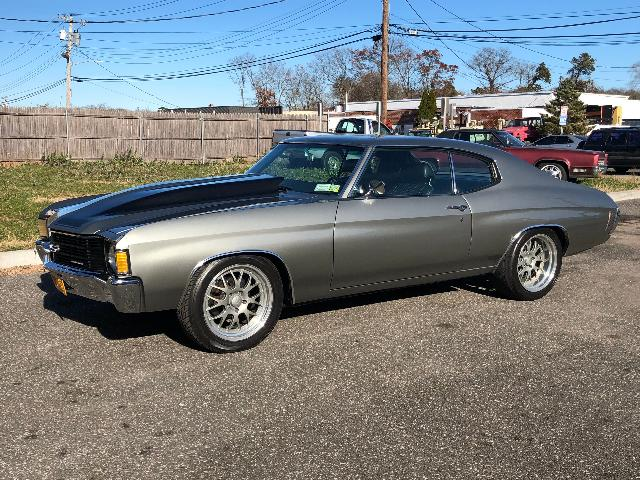chevelle-1972: (36, 134, 620, 353)
